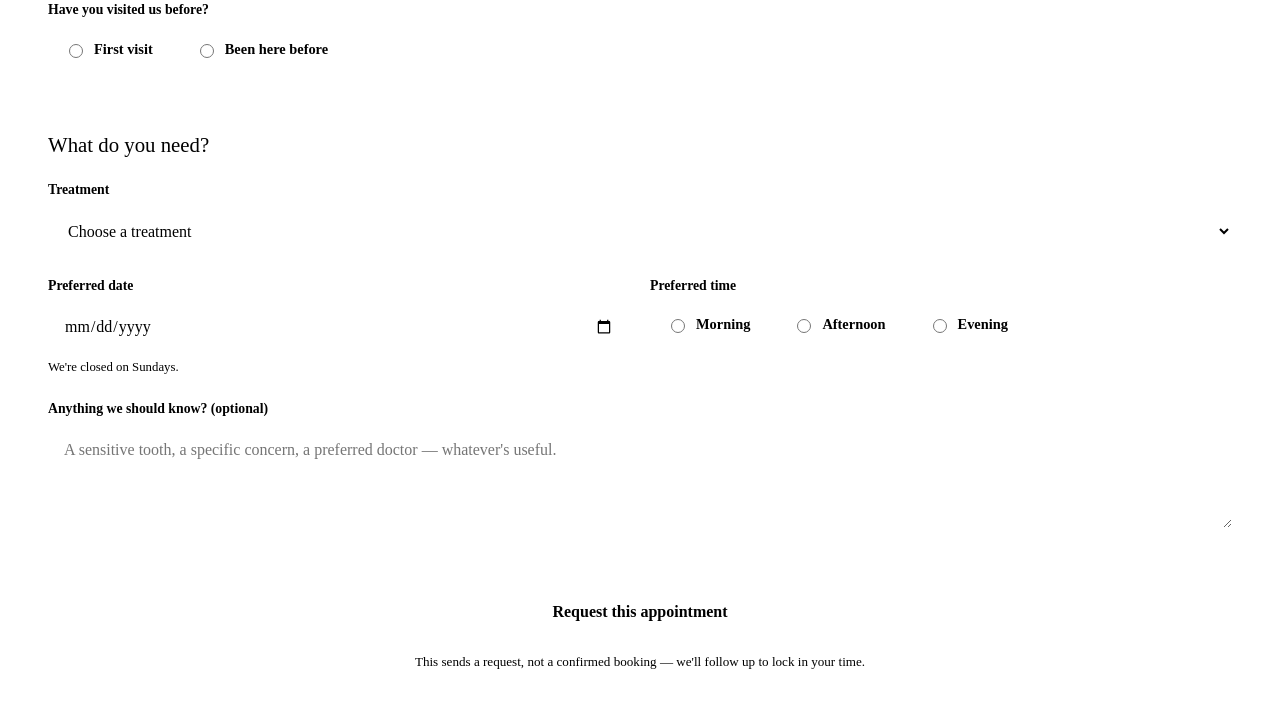
BookingForm › blocks submission and shows friendly errors when the form is empty
(page scrolled)
Click the button "Request this appointment".
click(640, 612)  # box top-left (48, 586), bottom-right (1232, 638)
(page scrolled)
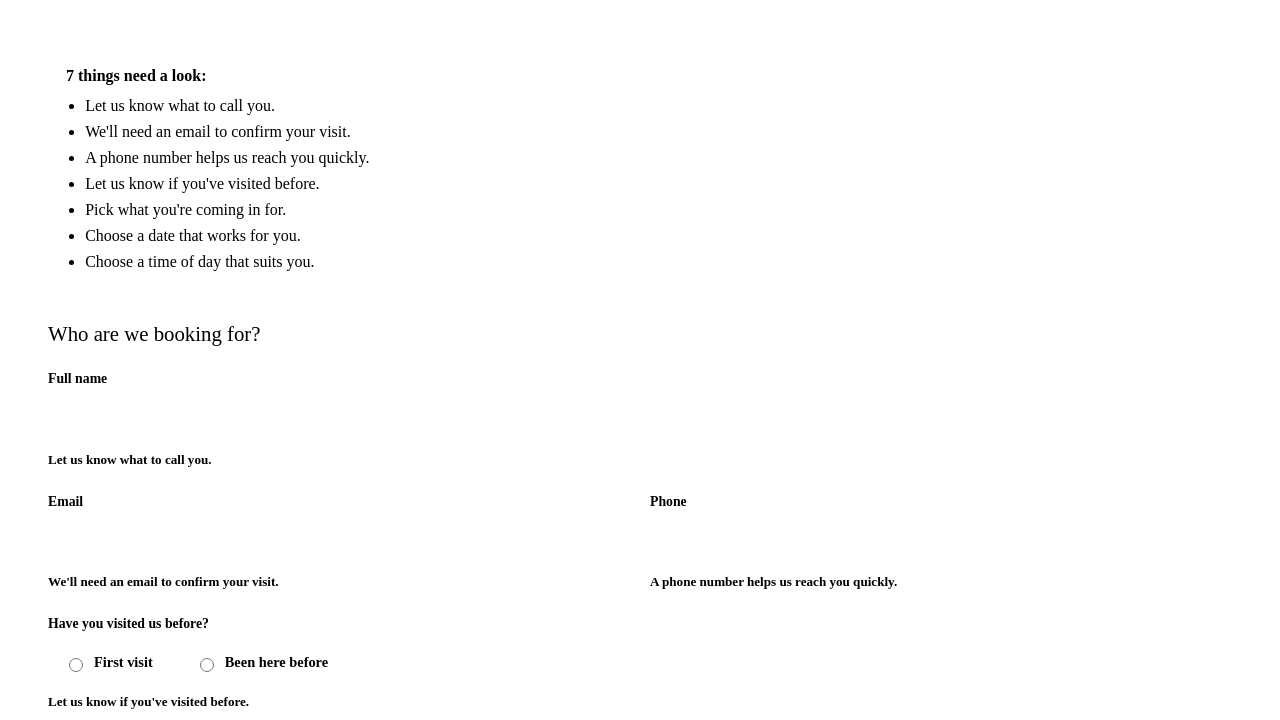
Expected: the message is shown, top-left (66, 67), bottom-right (369, 270)
Expected: the list item "Let us know what to call you." is shown, top-left (85, 97), bottom-right (275, 114)
Expected: the list item "We'll need an email to confirm your visit." is shown, top-left (85, 123), bottom-right (351, 140)
